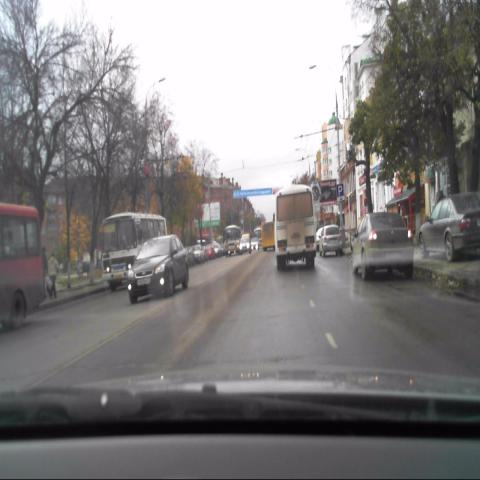6_4: (337, 184, 344, 196)
